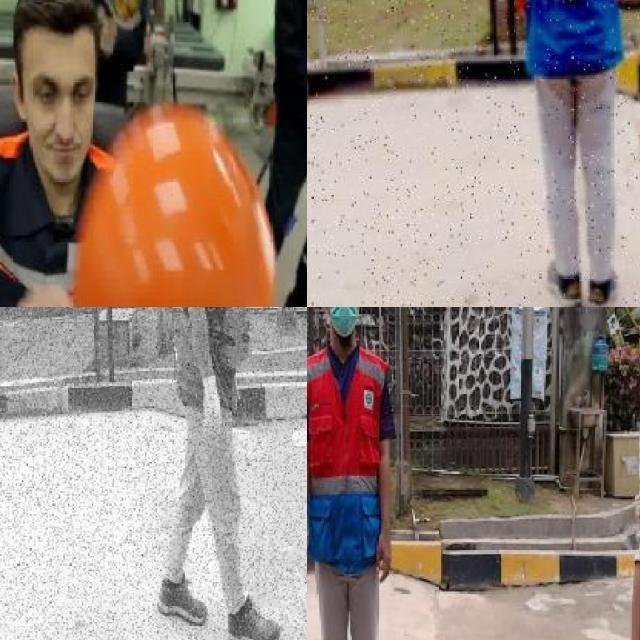apron: (196, 370, 228, 450)
